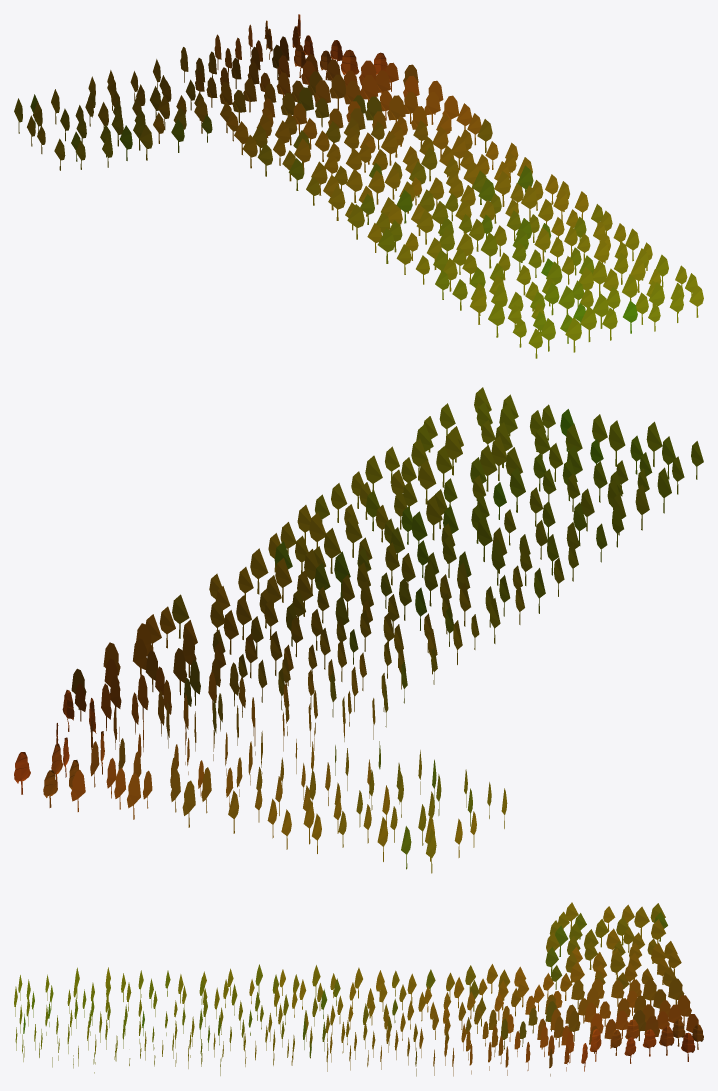
File: Tree Scatter.fbx
The picture shows the model from 3 angles, top to bottom: view 1: azimuth 30°, elevation 25°; view 2: azimuth 150°, elevation 25°; view 3: azimuth 270°, elevation 25°; orthographic projection. The views are drawn at different scales.
Parts seen in each view (by area): view 1: Plane.005, Plane.041, Plane.007, Plane.040, Plane.039, Plane.006, Plane.008, Plane.003, Plane.009, Plane.038, Plane.002, Plane.004; view 2: Plane.040, Plane.041, Plane.007, Plane.038, Plane.009, Plane.039, Plane.008, Plane.004, Plane.003, Plane.005, Plane.006, Plane.002; view 3: Plane.003, Plane.004, Plane.005, Plane.002, Plane.006, Plane.008, Plane.007, Plane.039, Plane.041, Plane.009, Plane.040, Plane.038.
Part boxes in pixels (box(x1,y1,x2,y2)): Plane.005: box(243, 49, 419, 133); Plane.041: box(452, 261, 617, 358); Plane.007: box(346, 80, 492, 174); Plane.040: box(541, 228, 703, 333); Plane.039: box(377, 201, 541, 299); Plane.006: box(234, 108, 387, 195); Plane.008: box(306, 161, 458, 252); Plane.003: box(88, 47, 274, 152); Plane.009: box(405, 141, 558, 232); Plane.038: box(479, 181, 626, 264); Plane.002: box(14, 88, 152, 170); Plane.004: box(208, 14, 342, 88); Plane.040: box(365, 387, 573, 519); Plane.041: box(509, 414, 703, 547); Plane.007: box(103, 594, 302, 715); Plane.038: box(280, 471, 458, 585); Plane.009: box(209, 533, 415, 650); Plane.039: box(424, 495, 607, 616); Plane.008: box(335, 572, 524, 684); Plane.004: box(14, 721, 203, 819); Plane.003: box(182, 712, 380, 853); Plane.005: box(62, 658, 255, 775); Plane.006: box(239, 628, 407, 746); Plane.002: box(338, 750, 507, 873); Plane.003: box(534, 941, 684, 1011); Plane.004: box(610, 989, 703, 1063); Plane.005: box(525, 988, 616, 1076); Plane.002: box(546, 902, 667, 963); Plane.006: box(407, 964, 528, 1033); Plane.008: box(279, 965, 406, 1034); Plane.007: box(394, 1009, 526, 1076); Plane.039: box(149, 964, 288, 1035); Plane.041: box(14, 967, 143, 1035); Plane.009: box(278, 1003, 391, 1071); Plane.040: box(15, 1011, 163, 1073); Plane.038: box(172, 1009, 275, 1075).
Size of the model in its own units: 10069 by 1028 by 19584.
